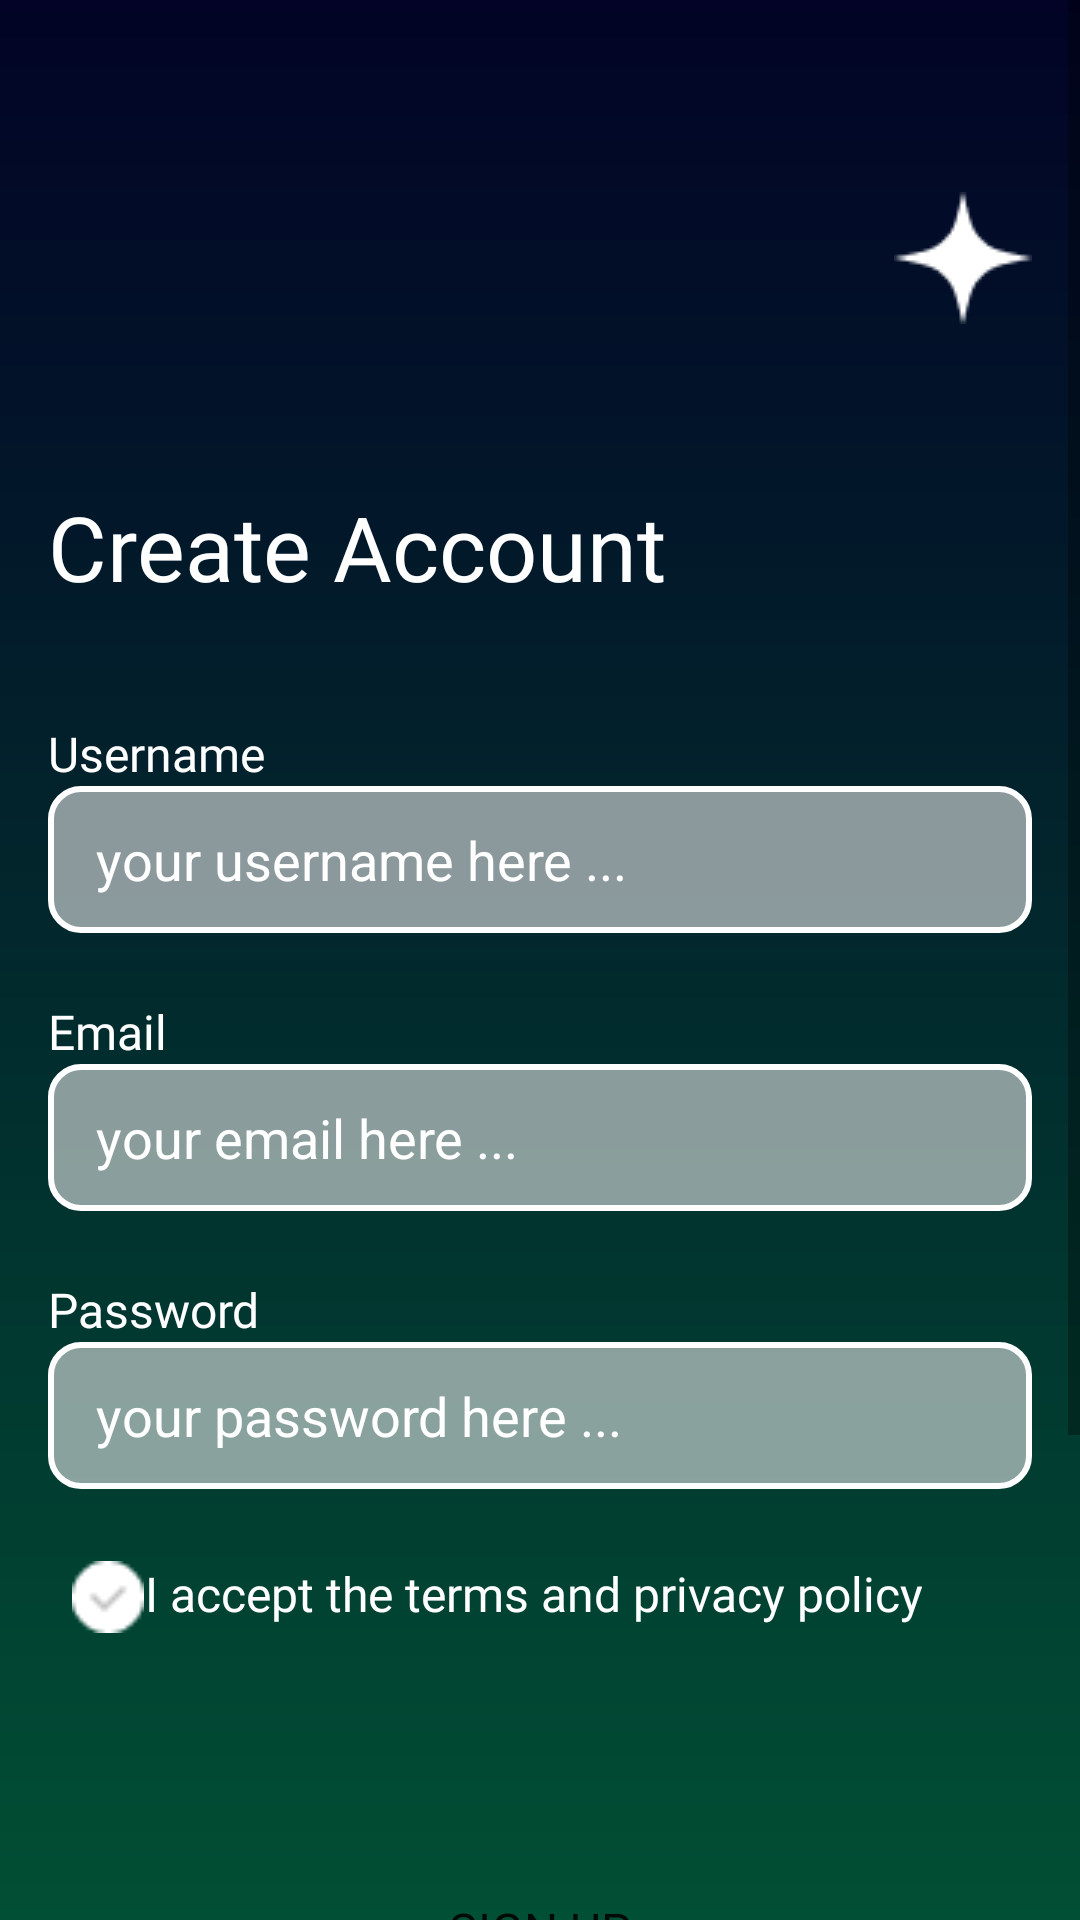

Icon click points for this 1080px×1920px phone screenshot, format point (x, y):
checkbox: point (108, 1597)
star: point (963, 258)
